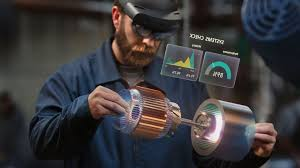hololens: (118, 1, 183, 39)
